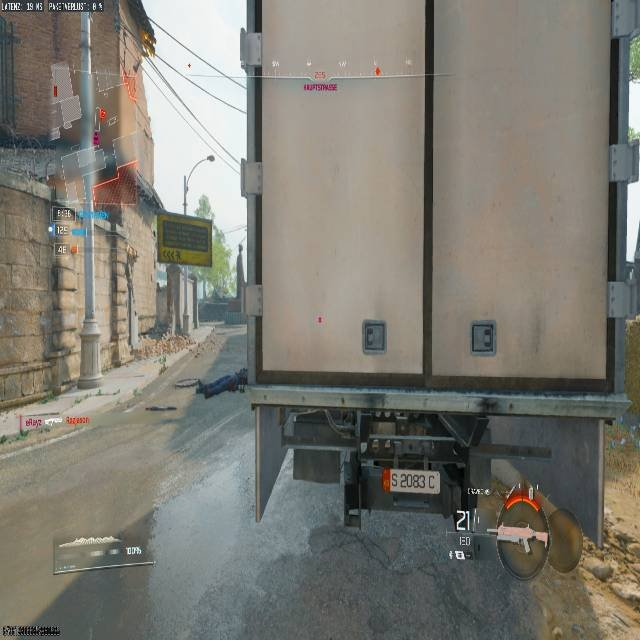head: (238, 367, 247, 376)
